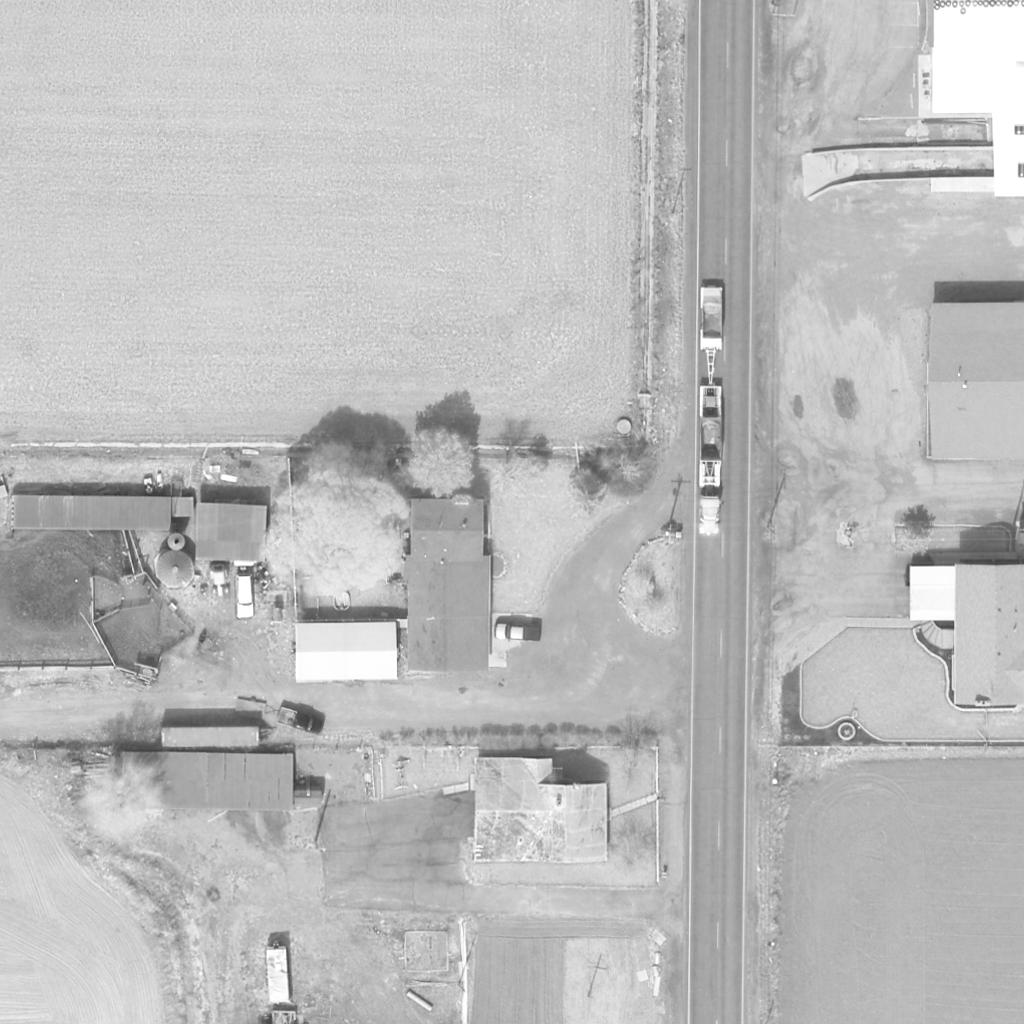vehicle: (697, 385, 723, 537), (265, 939, 291, 1007), (276, 707, 324, 739), (234, 574, 256, 620), (492, 624, 542, 642), (206, 568, 232, 598)
